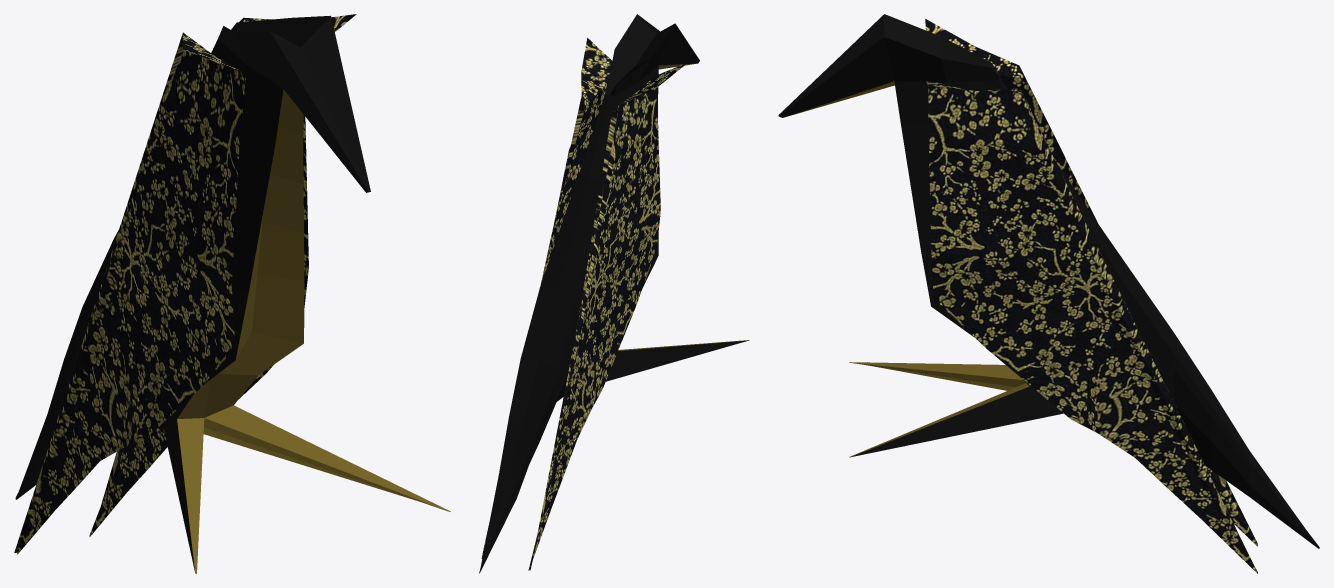
The model's file is crow.glb.
3 renders of one model, left to right at view 1: azimuth 30°, elevation 25°; view 2: azimuth 150°, elevation 25°; view 3: azimuth 270°, elevation 25°, orthographic. The views are drawn at different scales.
Visible parts, largest first — view 1: crow; view 2: crow; view 3: crow.
Boxes of the visible parts, <box> form: crow: <box>14,14,450,573</box>; crow: <box>479,14,749,573</box>; crow: <box>778,14,1319,573</box>.
Bounding box in the file's own units: 0.6765 × 1.77 × 1.62.
3 materials, 1 textured.
